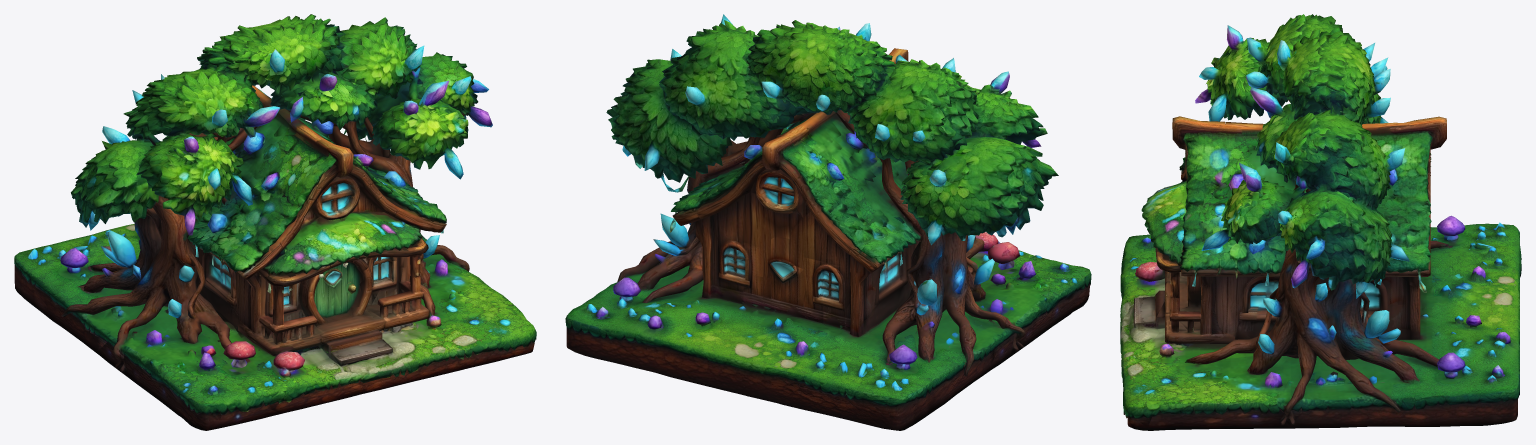
The model's file is storybook+treehouse+3d+model.glb.
3 views of the same model, side by side, from view 1: azimuth 30°, elevation 25°; view 2: azimuth 150°, elevation 25°; view 3: azimuth 270°, elevation 25° (orthographic).
Visible parts, largest first — view 1: tripo_part_1, tripo_part_0, tripo_part_2, tripo_part_3, tripo_part_5, tripo_part_4, tripo_part_6, tripo_part_13, tripo_part_11, tripo_part_8, tripo_part_23, tripo_part_7 (+9 smaller); view 2: tripo_part_0, tripo_part_1, tripo_part_2, tripo_part_3, tripo_part_4, tripo_part_5, tripo_part_12, tripo_part_6, tripo_part_8, tripo_part_7, tripo_part_17, tripo_part_19 (+3 smaller); view 3: tripo_part_1, tripo_part_0, tripo_part_3, tripo_part_7, tripo_part_4, tripo_part_2, tripo_part_6, tripo_part_14, tripo_part_13, tripo_part_11, tripo_part_23, tripo_part_21 (+6 smaller).
Part boxes in pixels (x1,y1,x2,y2): tripo_part_1: [14, 224, 536, 422]; tripo_part_0: [14, 108, 534, 430]; tripo_part_2: [71, 68, 263, 235]; tripo_part_3: [334, 17, 492, 179]; tripo_part_5: [162, 112, 336, 272]; tripo_part_4: [197, 14, 377, 129]; tripo_part_6: [210, 85, 446, 344]; tripo_part_13: [261, 212, 422, 275]; tripo_part_11: [237, 298, 429, 370]; tripo_part_8: [194, 244, 304, 339]; tripo_part_23: [314, 333, 415, 376]; tripo_part_7: [258, 89, 446, 233]; tripo_part_0: [566, 112, 1089, 430]; tripo_part_1: [565, 241, 1091, 406]; tripo_part_2: [847, 58, 1058, 234]; tripo_part_3: [606, 14, 759, 192]; tripo_part_4: [714, 20, 895, 140]; tripo_part_5: [781, 112, 921, 270]; tripo_part_12: [900, 161, 1017, 245]; tripo_part_6: [672, 48, 975, 273]; tripo_part_8: [850, 240, 972, 336]; tripo_part_7: [669, 119, 807, 232]; tripo_part_17: [755, 169, 804, 217]; tripo_part_19: [813, 265, 845, 311]; tripo_part_1: [1120, 222, 1521, 427]; tripo_part_0: [1127, 99, 1517, 430]; tripo_part_3: [1201, 110, 1409, 298]; tripo_part_7: [1180, 132, 1432, 292]; tripo_part_4: [1255, 26, 1375, 170]; tripo_part_2: [1195, 14, 1388, 121]; tripo_part_6: [1155, 116, 1446, 333]; tripo_part_14: [1200, 276, 1256, 339]; tripo_part_13: [1141, 180, 1187, 265]; tripo_part_11: [1135, 261, 1235, 343]; tripo_part_23: [1120, 290, 1164, 342]; tripo_part_21: [1239, 276, 1279, 321].
Size of the model in its own units: 0.9762 by 0.6784 by 0.8122.
Materials: 42 (42 with a texture image).
